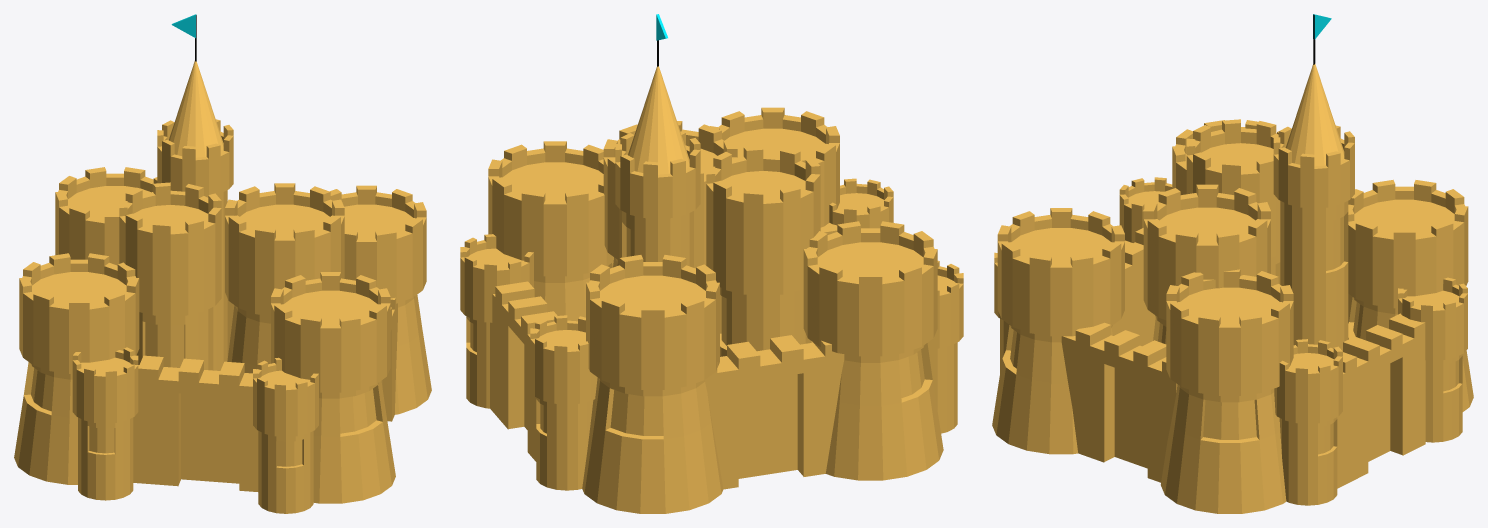
Rendered from d1b0c25e-b538-4e4f-bcc9-f59752b78a5f.glb.
The picture shows the model from 3 angles, left to right: view 1: azimuth 30°, elevation 25°; view 2: azimuth 150°, elevation 25°; view 3: azimuth 270°, elevation 25°; orthographic projection. The views are drawn at different scales.
Visible parts, largest first — view 1: Cylinder005, Cylinder006, Cylinder009, Box004, Cylinder011, Cylinder003, Cylinder008, Cylinder007, Cylinder010, Cylinder004, Box003; view 2: Cylinder004, Cylinder006, Cylinder009, Box005, Cylinder003, Cylinder010, Cylinder002, Box001, Cylinder001, Cylinder005, Cylinder008, Cylinder011 (+1 smaller); view 3: Cylinder003, Cylinder005, Cylinder010, Cylinder004, Box003, Cylinder011, Box001, Cylinder001, Cylinder002, Cylinder009, Box004, Cylinder008 (+2 smaller).
Part boxes in pixels (<box>): Cylinder005: <box>271,272,395,503</box>; Cylinder006: <box>14,253,139,484</box>; Cylinder009: <box>119,182,221,370</box>; Box004: <box>133,355,258,491</box>; Cylinder011: <box>225,183,344,373</box>; Cylinder003: <box>330,185,431,414</box>; Cylinder008: <box>72,347,138,500</box>; Cylinder007: <box>253,357,318,513</box>; Cylinder010: <box>157,61,233,370</box>; Cylinder004: <box>55,167,157,265</box>; Box003: <box>381,297,397,421</box>; Cylinder004: <box>582,255,723,513</box>; Cylinder006: <box>803,221,943,480</box>; Cylinder009: <box>706,146,820,356</box>; Box005: <box>705,335,844,489</box>; Cylinder003: <box>488,141,613,321</box>; Cylinder010: <box>615,66,700,267</box>; Cylinder002: <box>530,315,597,490</box>; Box001: <box>490,281,557,461</box>; Cylinder001: <box>460,234,533,408</box>; Cylinder005: <box>710,107,839,342</box>; Cylinder008: <box>927,260,963,433</box>; Cylinder011: <box>603,121,737,268</box>; Cylinder003: <box>1160,269,1293,513</box>; Cylinder005: <box>992,208,1124,454</box>; Cylinder010: <box>1273,64,1354,350</box>; Cylinder004: <box>1348,179,1473,411</box>; Box003: <box>1061,322,1177,482</box>; Cylinder011: <box>1143,184,1270,344</box>; Box001: <box>1337,313,1425,488</box>; Cylinder001: <box>1274,339,1342,505</box>; Cylinder002: <box>1398,277,1467,442</box>; Cylinder009: <box>1186,119,1280,284</box>; Box004: <box>1111,228,1155,346</box>; Cylinder008: <box>1119,177,1172,242</box>.
Bounding box in the file's own units: 412822 × 377564 × 409231.
